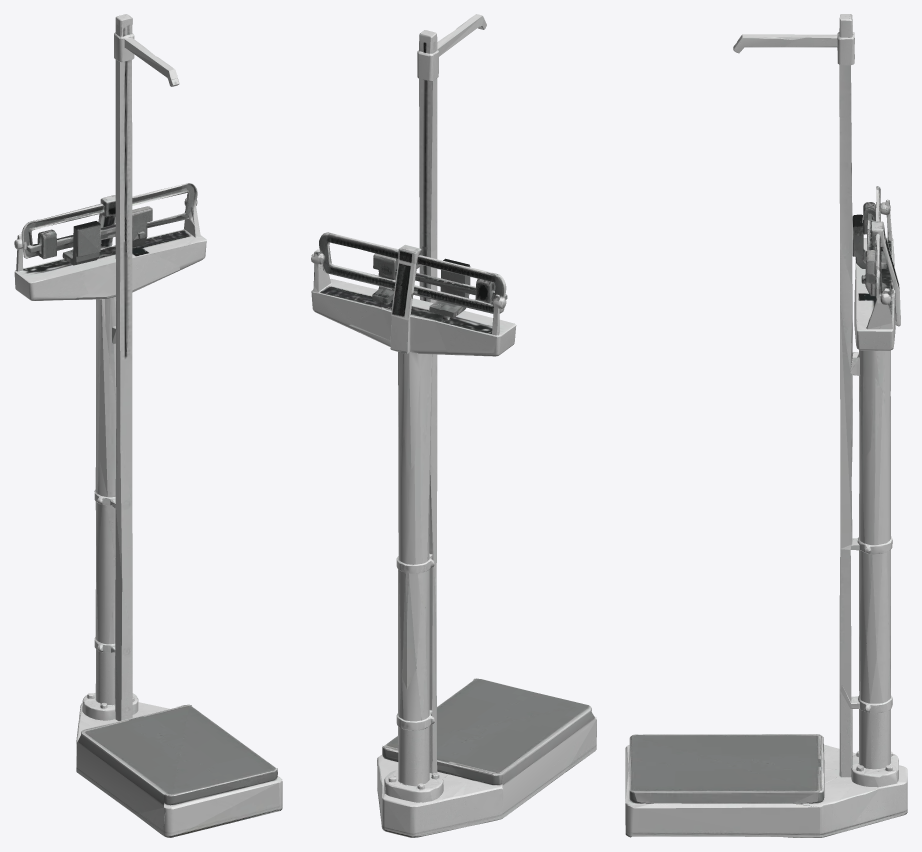
The model's file is scale.glb.
3 renders of one model, left to right at view 1: azimuth 30°, elevation 25°; view 2: azimuth 150°, elevation 25°; view 3: azimuth 270°, elevation 25°, orthographic. The views are drawn at different scales.
Size of the model in its own units: 0.4919 by 1.9 by 0.6157.
Materials: 1 (1 with a texture image).
